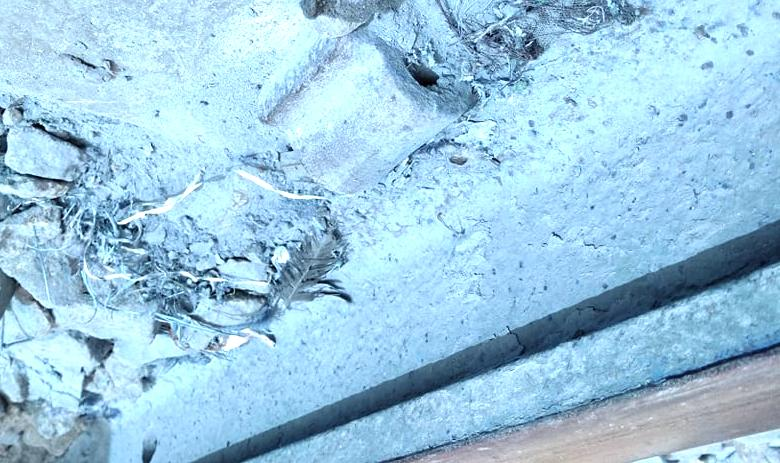loss: (263, 26, 492, 218)
